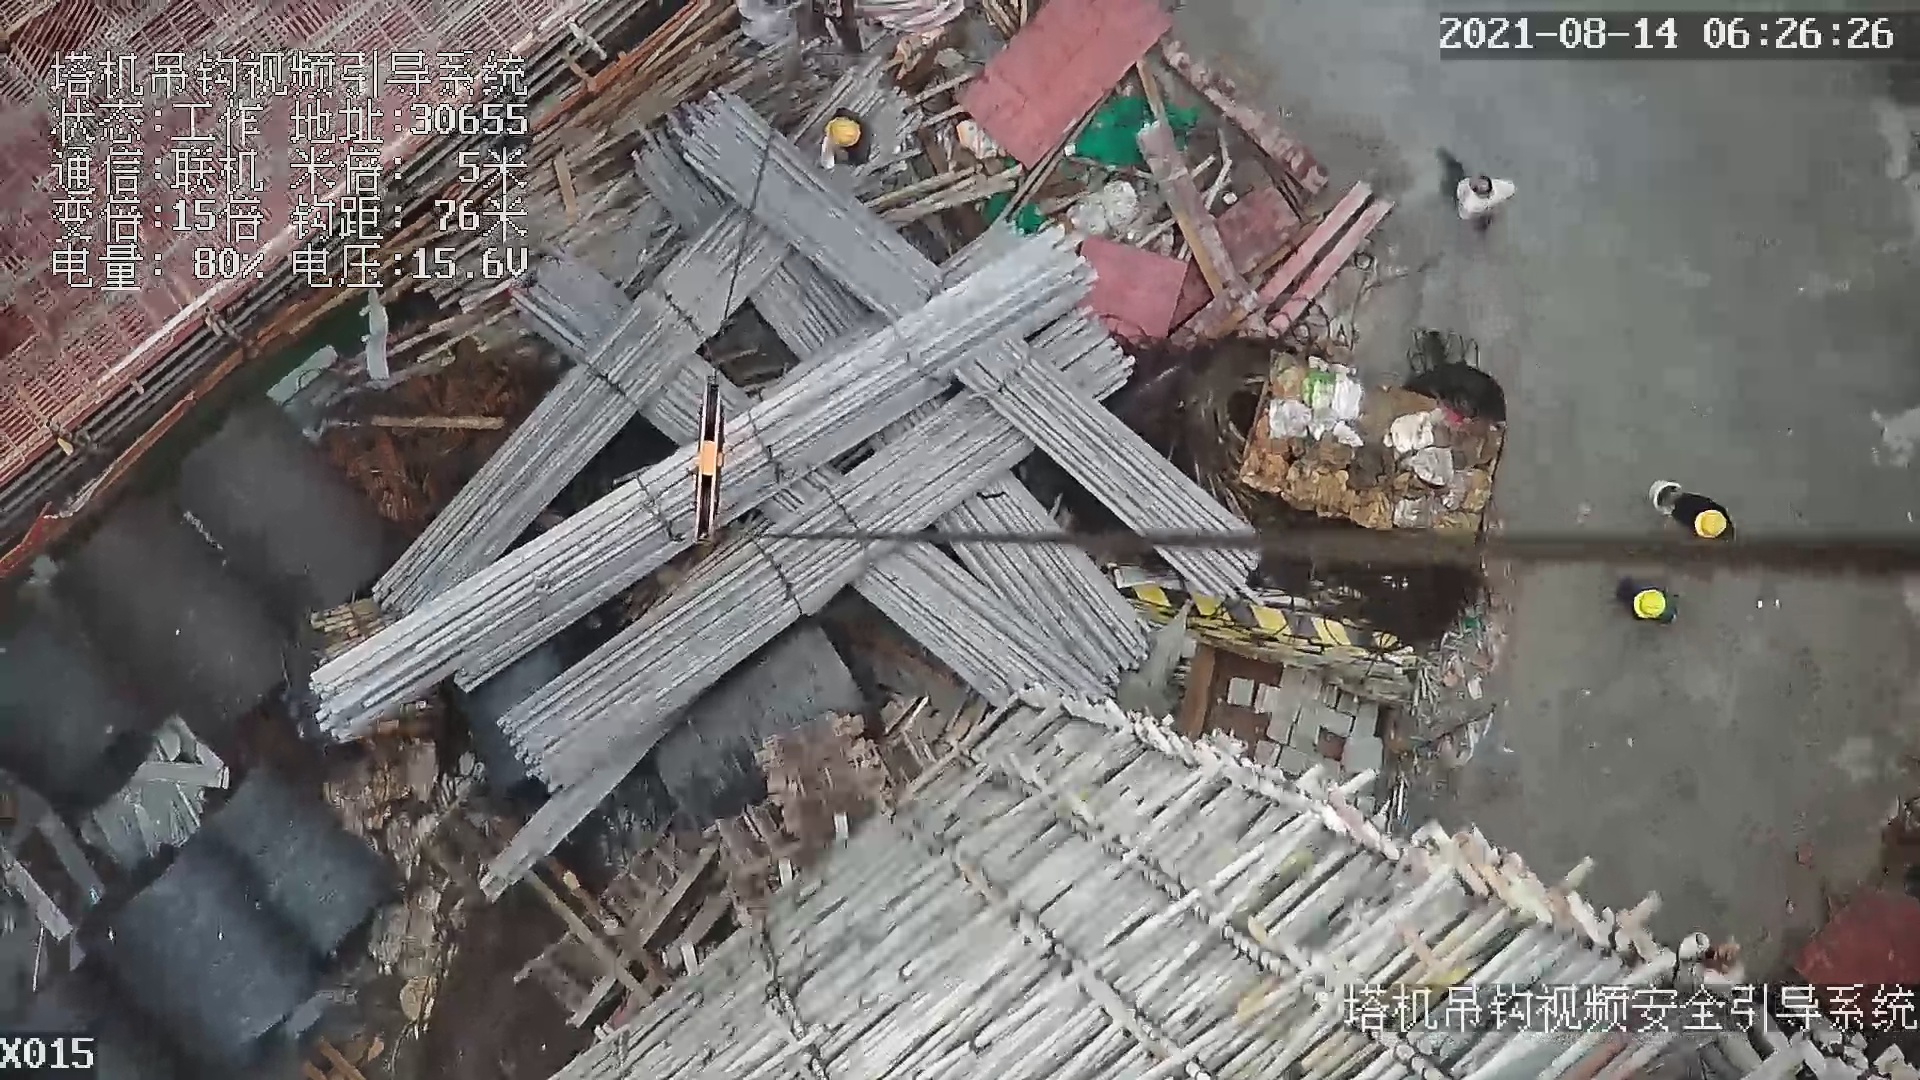helmet: (1632, 586, 1663, 619), (825, 116, 858, 145), (1692, 509, 1728, 532)
person: (1424, 141, 1515, 230), (1663, 472, 1736, 542), (813, 112, 874, 169), (1614, 577, 1682, 621)
